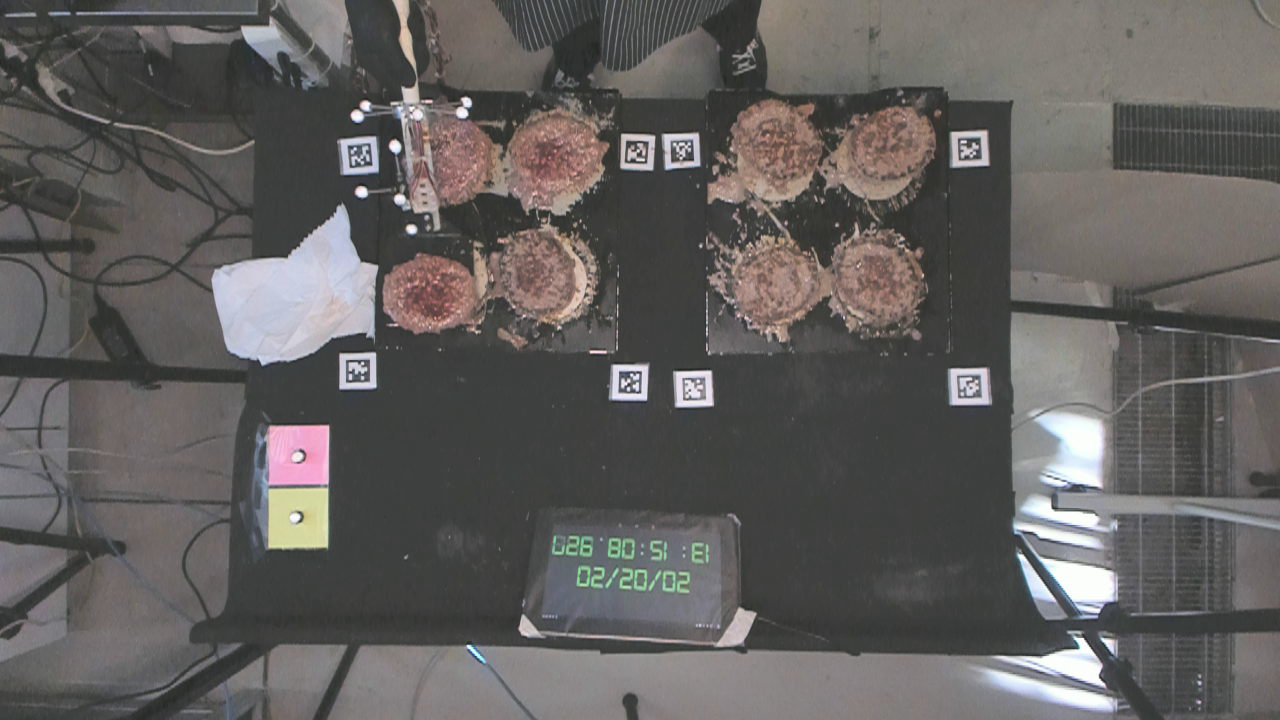hamburger: (509, 112, 603, 196), (378, 256, 478, 334), (835, 236, 916, 332), (499, 229, 577, 317), (737, 245, 822, 325), (736, 103, 816, 186), (850, 102, 933, 181), (426, 110, 491, 203)
marker: (268, 424, 331, 485)
